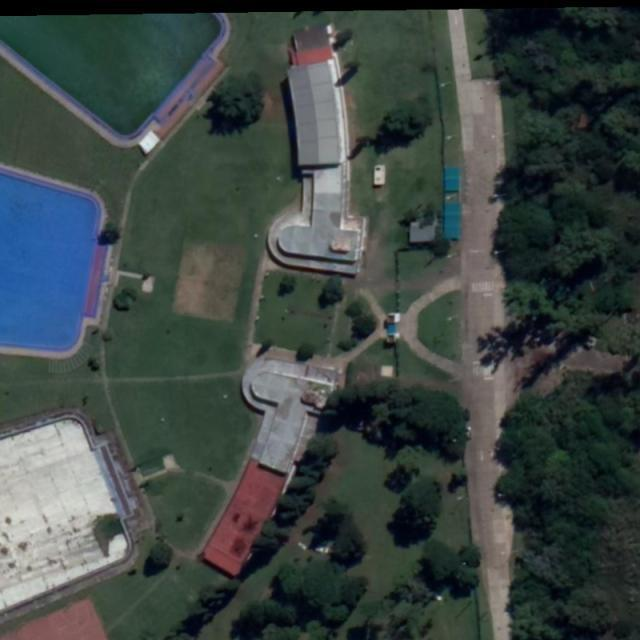vehicle: (314, 546, 331, 556), (298, 541, 309, 555), (466, 426, 473, 443), (464, 407, 471, 422)
